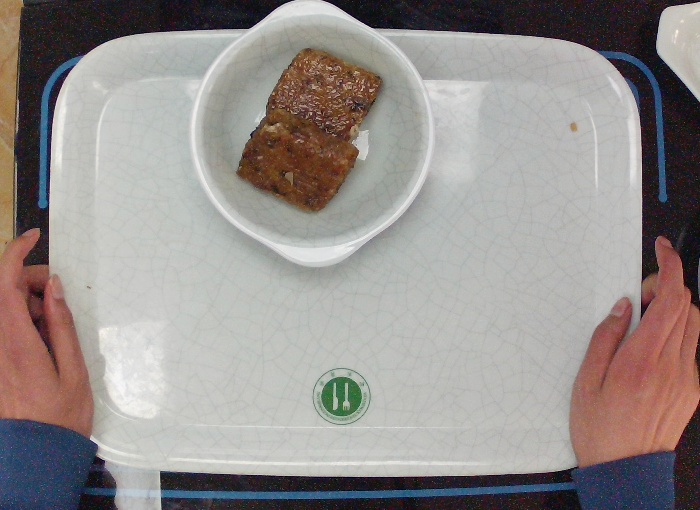JYsf-Shuang_Er_Wan: (188, 1, 437, 269)
